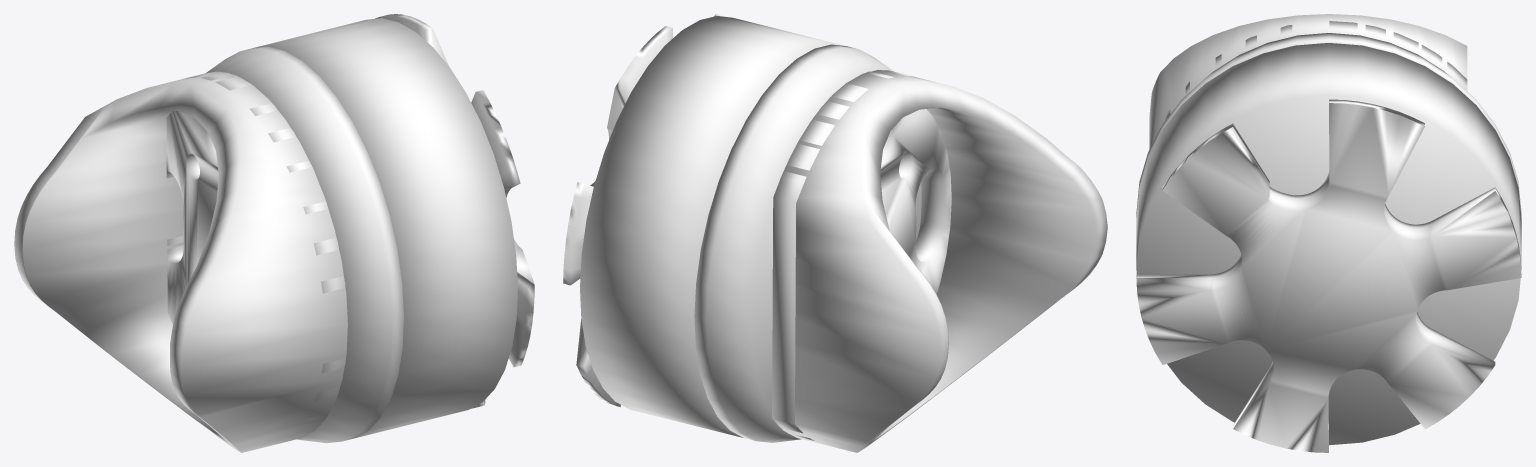
The model's file is skycat_tilt_right.dae.
3 renders of one model, left to right at view 1: azimuth 30°, elevation 25°; view 2: azimuth 150°, elevation 25°; view 3: azimuth 270°, elevation 25°, orthographic. The views are drawn at different scales.
Visible parts, largest first — view 1: Tube004.001, Zylinder006.001, Motor Flansch001.001, Kreis007.001, ~CS_SPINNER2.001; view 2: Tube004.001, Zylinder006.001, Motor Flansch001.001, Kreis007.001, ~CS_SPINNER2.001; view 3: ~CS_SPINNER2.001, Zylinder006.001, Tube004.001, Motor Flansch001.001, Kreis007.001.
Part boxes in pixels (x1,y1,x2,y2): Tube004.001: (14,71,347,452); Zylinder006.001: (253,18,517,438); Motor Flansch001.001: (206,46,403,443); Kreis007.001: (166,71,345,438); ~CS_SPINNER2.001: (375,14,534,408); Tube004.001: (781,70,1107,452); Zylinder006.001: (580,16,844,437); Motor Flansch001.001: (694,44,921,442); Kreis007.001: (772,70,951,440); ~CS_SPINNER2.001: (563,14,724,407); ~CS_SPINNER2.001: (1136,99,1521,452); Zylinder006.001: (1136,43,1521,445); Tube004.001: (1149,14,1467,149); Motor Flansch001.001: (1136,33,1521,216); Kreis007.001: (1165,21,1467,120).
Bounding box in the file's own units: 0.0501 × 0.0467 × 0.0468.
